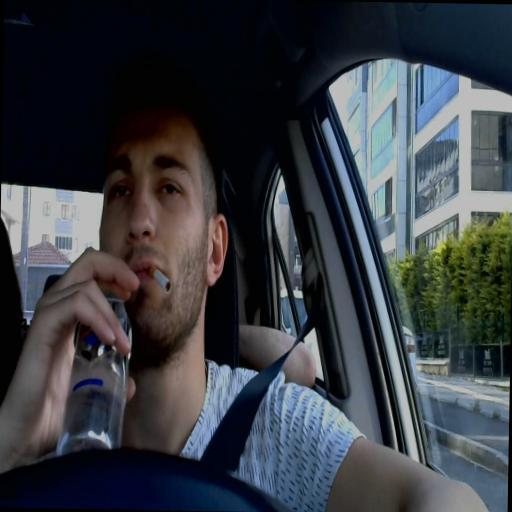Drinking: (50, 115, 228, 452)
